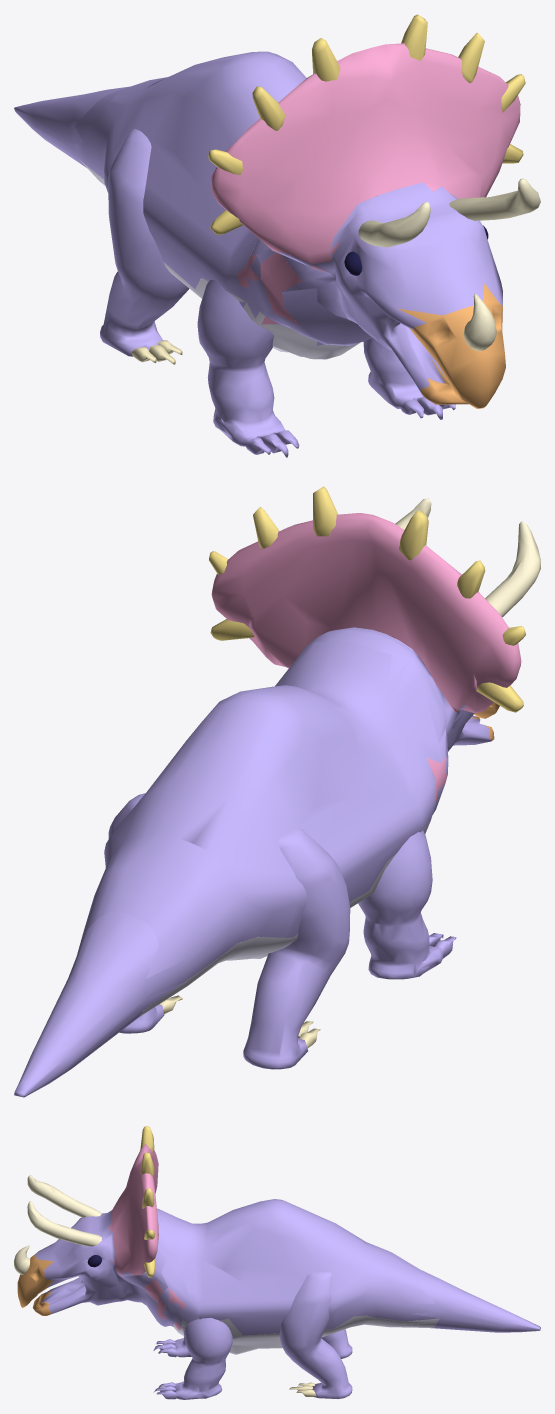
File: triceratops.glb
3 renders of one model, top to bottom at view 1: azimuth 30°, elevation 25°; view 2: azimuth 150°, elevation 25°; view 3: azimuth 270°, elevation 25°, orthographic. The views are drawn at different scales.
Visible parts, largest first — view 1: Head, Body, Tail; view 2: Body, Head, Tail; view 3: Body, Head, Tail.
Boxes of the visible parts, box(x1,y1,x2,y2) form: Head: box(208, 14, 540, 408); Body: box(74, 51, 455, 457); Tail: box(14, 86, 129, 178); Body: box(77, 641, 456, 1069); Head: box(209, 486, 540, 766); Tail: box(14, 912, 185, 1097); Body: box(145, 1199, 438, 1399); Head: box(14, 1126, 175, 1315); Tail: box(398, 1269, 540, 1332).
Size of the model in its own units: 1.56 by 2 by 4.06.
